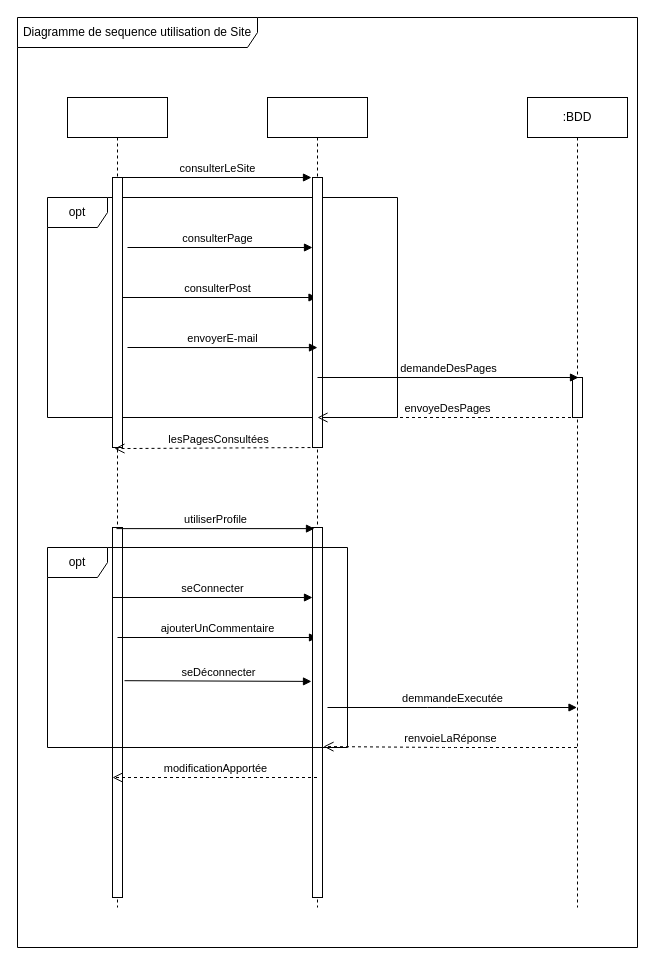
Image size: 655x965. Some labels were removed from this diagram. The shapes that lost their labels are listed below. From the top down, each one's centre as x and y in pixels, then its label:
point 117,502: <<acteur>> :User
point 317,502: :Blog
